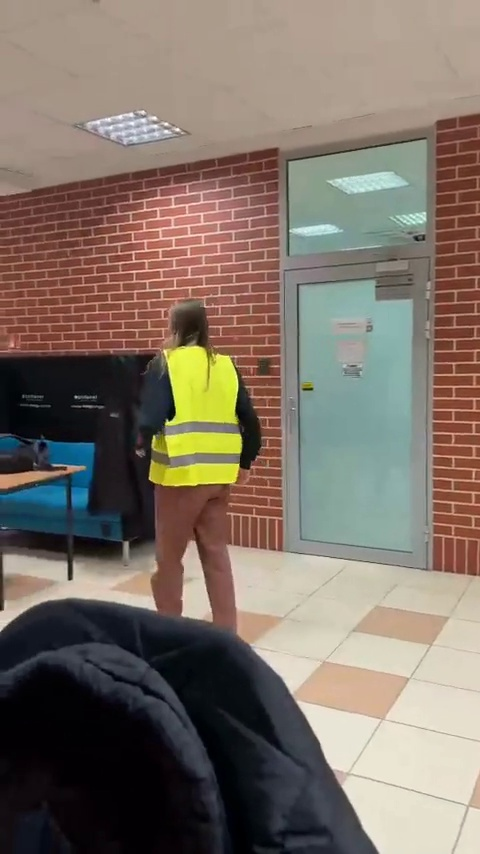vest: (136, 302, 267, 635)
